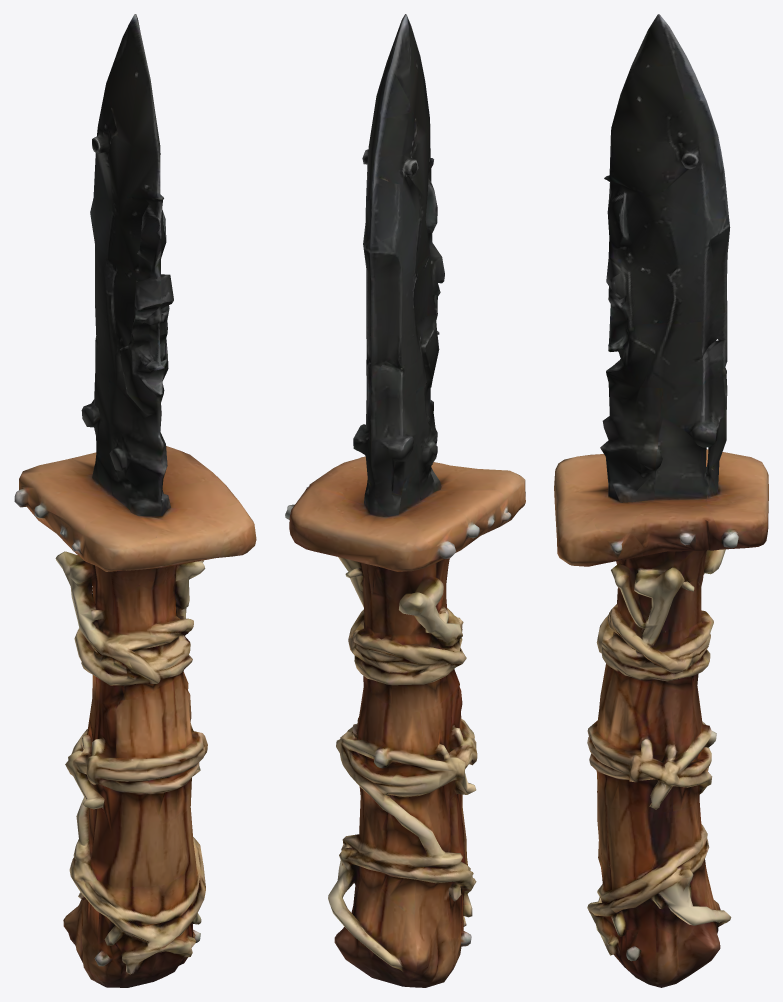
Rendered from cuchillo_obsidiana.glb.
3 views of the same model, side by side, from view 1: azimuth 30°, elevation 25°; view 2: azimuth 150°, elevation 25°; view 3: azimuth 270°, elevation 25° (orthographic).
Parts seen in each view (by area): view 1: tripo_node_dce2c30c-b92b-42f5-bd3b-3be5803c7514; view 2: tripo_node_dce2c30c-b92b-42f5-bd3b-3be5803c7514; view 3: tripo_node_dce2c30c-b92b-42f5-bd3b-3be5803c7514.
Boxes of the visible parts, x1,y1,x2,y2 form: tripo_node_dce2c30c-b92b-42f5-bd3b-3be5803c7514: [14, 14, 256, 987]; tripo_node_dce2c30c-b92b-42f5-bd3b-3be5803c7514: [285, 14, 525, 987]; tripo_node_dce2c30c-b92b-42f5-bd3b-3be5803c7514: [554, 14, 768, 987].
Size of the model in its own units: 0.1867 by 0.9987 by 0.2024.
Materials: 1 (1 with a texture image).
